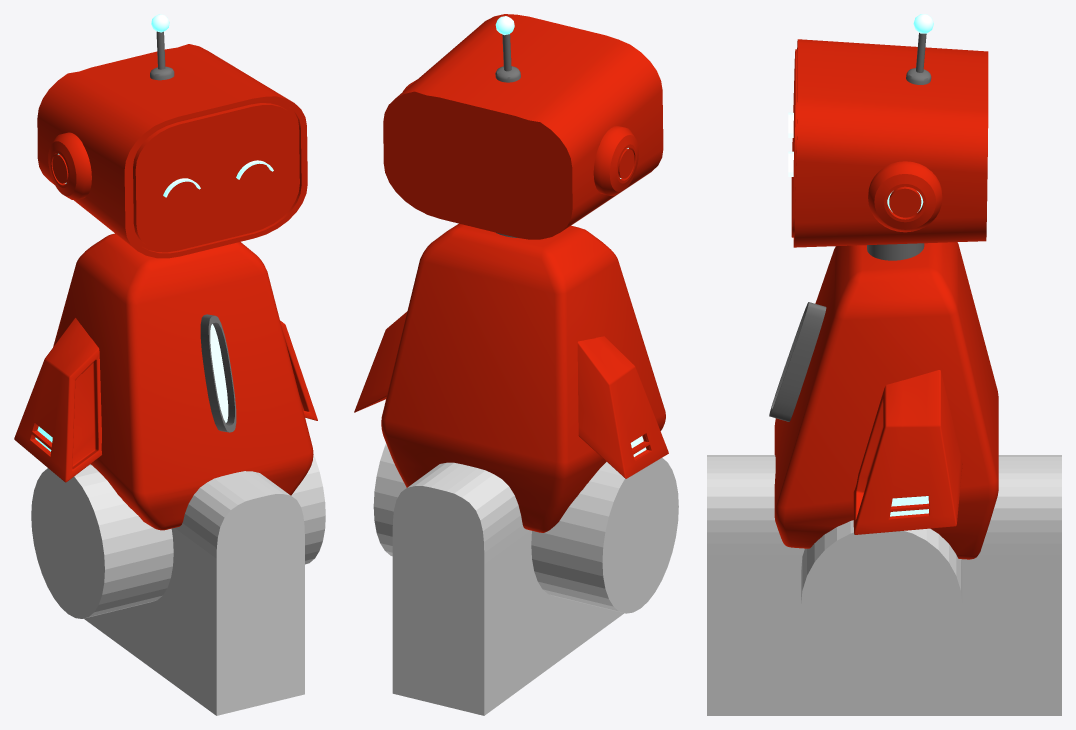
The model's file is Bot modelling1.fbx.
The picture shows the model from 3 angles, left to right: view 1: azimuth 30°, elevation 25°; view 2: azimuth 150°, elevation 25°; view 3: azimuth 270°, elevation 25°; orthographic projection. The views are drawn at different scales.
Parts seen in each view (by area): view 1: Body-BOT, Head Bot, Cutting for wheel, Cutting for wheel2, Hand-BOT, Chest-Bot, Ear- Bot, Antenna; view 2: Body-BOT, Head Bot, Cutting for wheel, Cutting for wheel2, Hand-BOT, Ear- Bot, Antenna; view 3: Cutting for wheel, Body-BOT, Head Bot, Cutting for wheel2, Hand-BOT, Ear- Bot, Chest-Bot, Neck-bot, Antenna.
Boxes of the visible parts, box(x1,y1,x2,y2) form: Body-BOT: box(53, 233, 313, 530); Head Bot: box(37, 44, 307, 258); Cutting for wheel: box(84, 471, 304, 715); Cutting for wheel2: box(31, 454, 325, 618); Hand-BOT: box(14, 318, 317, 482); Chest-Bot: box(200, 314, 236, 432); Ear- Bot: box(48, 132, 91, 200); Antenna: box(150, 31, 174, 80); Body-BOT: box(381, 223, 665, 532); Head Bot: box(383, 14, 663, 239); Cutting for wheel: box(392, 462, 623, 715); Cutting for wheel2: box(373, 443, 678, 613); Hand-BOT: box(354, 311, 668, 478); Ear- Bot: box(403, 80, 638, 195); Antenna: box(495, 34, 520, 82); Cutting for wheel: box(707, 455, 1061, 715); Body-BOT: box(774, 242, 998, 559); Head Bot: box(791, 39, 988, 247); Cutting for wheel2: box(801, 520, 962, 683); Hand-BOT: box(853, 370, 962, 534); Ear- Bot: box(868, 161, 942, 232); Chest-Bot: box(769, 302, 826, 421); Neck-bot: box(867, 243, 924, 260); Antenna: box(906, 33, 931, 84).
Bounding box in the file's own units: 92.74 × 209 × 98.98.
